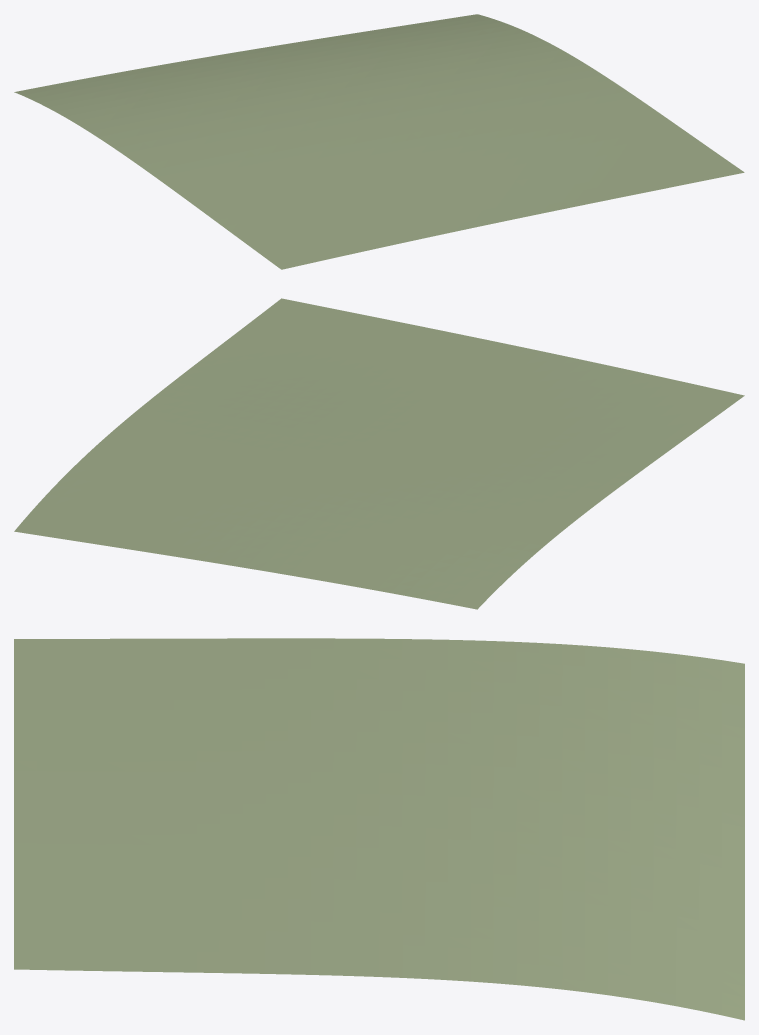
File: expanse-1-6.glb
3 renders of one model, top to bottom at view 1: azimuth 30°, elevation 25°; view 2: azimuth 150°, elevation 25°; view 3: azimuth 270°, elevation 25°, orthographic. The views are drawn at different scales.
Parts seen in each view (by area): view 1: expanse-1-6; view 2: expanse-1-6; view 3: expanse-1-6.
Boxes of the visible parts, box(x1,y1,x2,y2) form: expanse-1-6: box(14, 14, 744, 269); expanse-1-6: box(14, 298, 744, 609); expanse-1-6: box(14, 638, 744, 1020).
Bounding box in the file's own units: 256 × 28.3 × 256.
